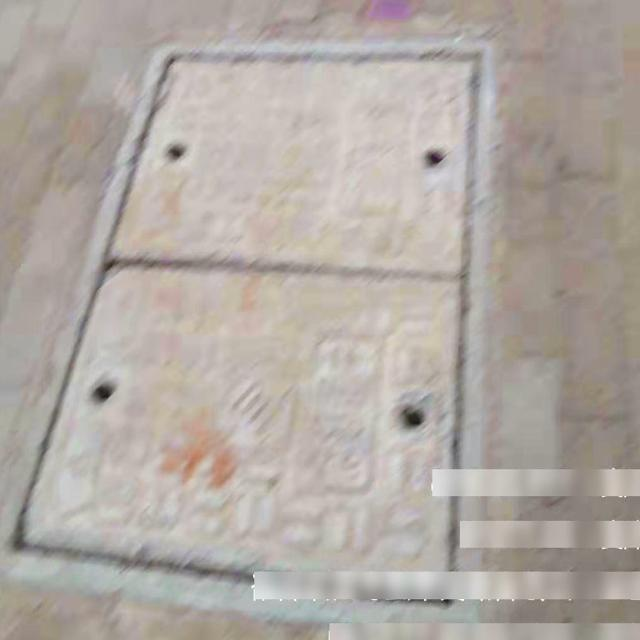good: (0, 34, 495, 633)
